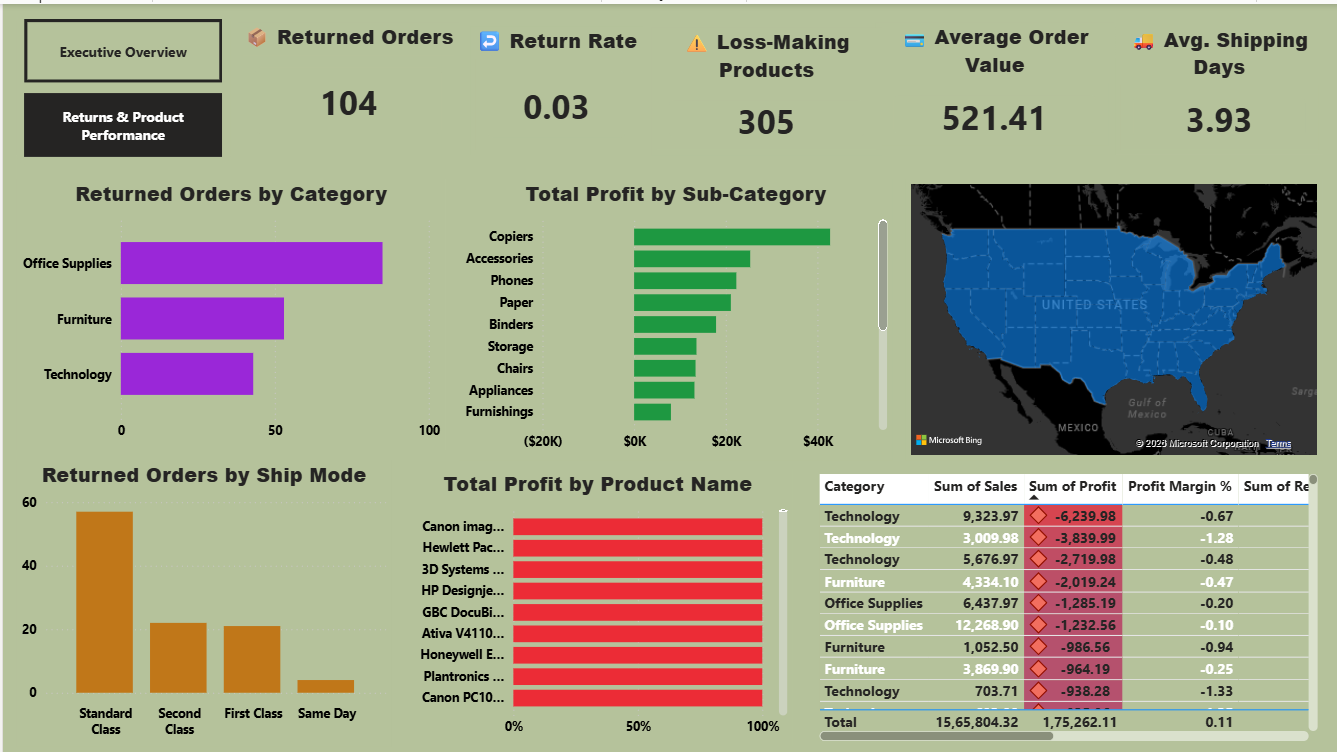

The page's visual inventory and layout, read from the dashboard file:
{"tool":"powerbi","page":{"name":"Returns & Product Performance","canvas":[1280,720],"ordinal":1},"visuals":[{"type":"cardVisual","title":"📦 Returned Orders","fields":{"Data":["Date Table.Returned Orders"]},"box":[225.3,18,212.1,123.4],"z":0},{"type":"cardVisual","title":"🚚 Avg. Shipping Days","fields":{"Data":["Date Table.Average Shipping Days"]},"box":[1066.2,20.2,199.1,124.1],"z":1000},{"type":"cardVisual","title":"💳 Average Order Value","fields":{"Data":["Date Table.Average Order Value"]},"box":[836.6,18,228.9,123.4],"z":2000},{"type":"cardVisual","title":"⚠️ Loss-Making Products","fields":{"Data":["Date Table.Loss-Making Products"]},"box":[622,22.8,220.5,122.2],"z":3000},{"type":"cardVisual","title":"↩️ Return Rate","fields":{"Data":["Date Table.Return Rate %"]},"box":[448.2,21.6,165.4,123.4],"z":4000},{"type":"barChart","fields":{"Y":["Date Table.Returned Orders"],"Category":["amazon_store_sales.Category"]},"box":[13,167.4,411.2,259.7],"z":5000},{"type":"columnChart","fields":{"Category":["amazon_store_sales.Ship Mode"],"Y":["Date Table.Returned Orders"]},"box":[13,437.2,359.2,274.1],"z":6000},{"type":"barChart","fields":{"Category":["amazon_store_sales.Sub-Category"],"Y":["Date Table.Total Profit"]},"box":[437.2,167.4,415.5,269.8],"z":7000},{"type":"hundredPercentStackedBarChart","fields":{"Category":["amazon_store_sales.Product Name"],"Y":["Date Table.Total Profit"]},"box":[383.8,445.8,373.7,265.5],"z":8000},{"type":"filledMap","fields":{"Category":["amazon_store_sales.State"],"Y":["Date Table.Total Profit"]},"box":[865.7,167.4,399.6,269.8],"z":9000},{"type":"tableEx","fields":{"Values":["amazon_store_sales.Category","Sum(amazon_store_sales.Sales)","Sum(amazon_store_sales.Profit)","Date Table.Profit Margin %","Sum(amazon_store_sales.Returns)","amazon_store_sales.Product Name"]},"box":[776.2,445.8,489.1,265.5],"z":10000},{"type":"pageNavigator","box":[13.2,7.2,204.9,146.2],"z":10001}]}

Visuals, with their boxes in screenshot pixels (x1, y1, x2, y2), scaled from the page's 1280x720 canvas onto the 1337x752 screenshot:
"📦 Returned Orders" cardVisual: <box>235,19,457,148</box>
"🚚 Avg. Shipping Days" cardVisual: <box>1114,21,1322,151</box>
"💳 Average Order Value" cardVisual: <box>874,19,1113,148</box>
"⚠️ Loss-Making Products" cardVisual: <box>650,24,880,151</box>
"↩️ Return Rate" cardVisual: <box>468,23,641,151</box>
barChart - Date Table.Returned Orders x amazon_store_sales.Category: <box>14,175,443,446</box>
columnChart - amazon_store_sales.Ship Mode x Date Table.Returned Orders: <box>14,457,389,743</box>
barChart - amazon_store_sales.Sub-Category x Date Table.Total Profit: <box>457,175,891,457</box>
hundredPercentStackedBarChart - amazon_store_sales.Product Name x Date Table.Total Profit: <box>401,466,791,743</box>
filledMap - amazon_store_sales.State x Date Table.Total Profit: <box>904,175,1322,457</box>
tableEx - amazon_store_sales.Category x Sum(amazon_store_sales.Sales): <box>811,466,1322,743</box>
pageNavigator: <box>14,8,228,160</box>
